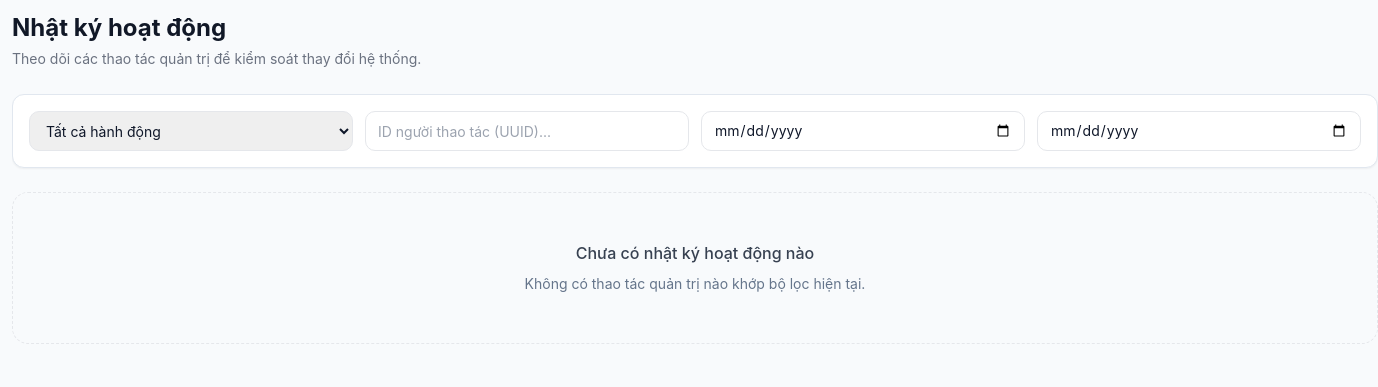
AdminAuditLogsPage › L7 — ô lọc theo ID người thao tác › gõ dở UUID: không ghi lên URL, không truyền xuống query, có gợi ý định dạng
Type "3f2a9c1e-7b4d" into the field named "Lọc theo ID người thao tác" at (527, 131), box [365,111,689,151]
Wait 600 ms
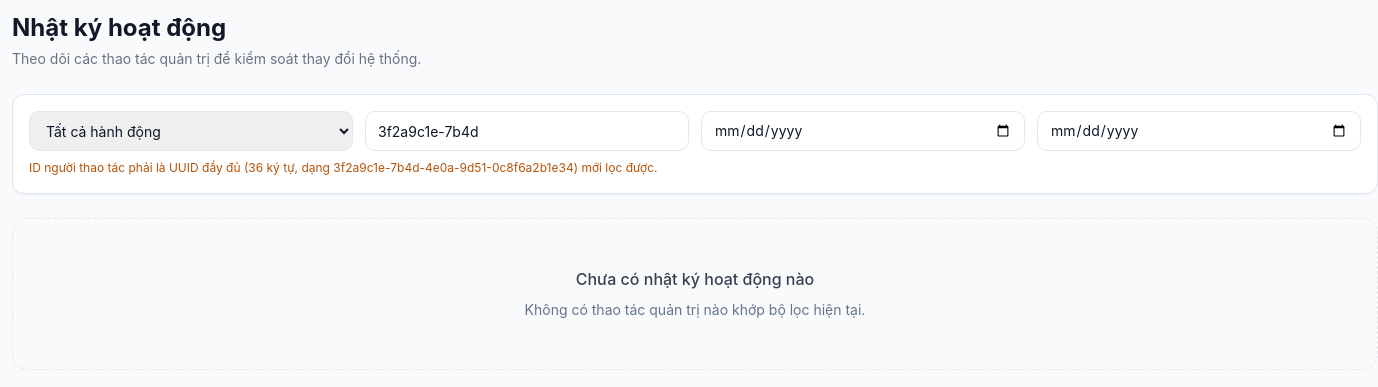
Check: the text "UUID đầy đủ" is shown, box [29,160,658,175]
